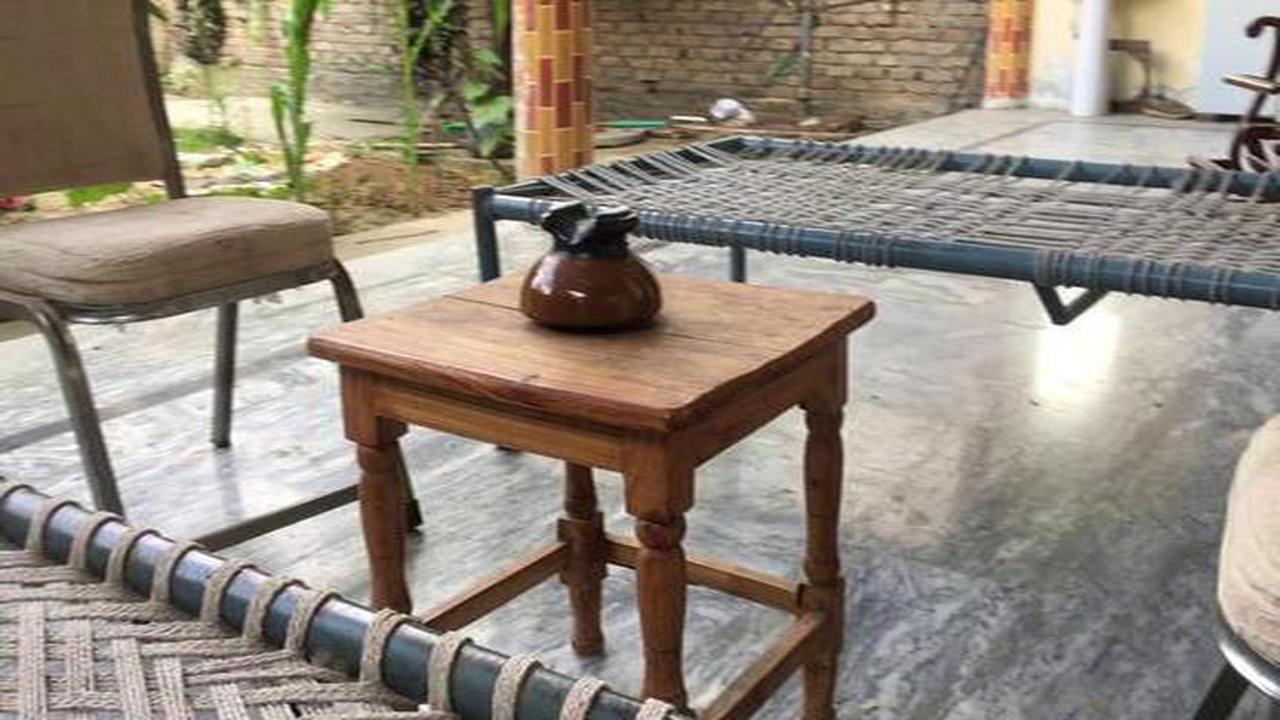insulator_pin: (496, 182, 687, 345)
